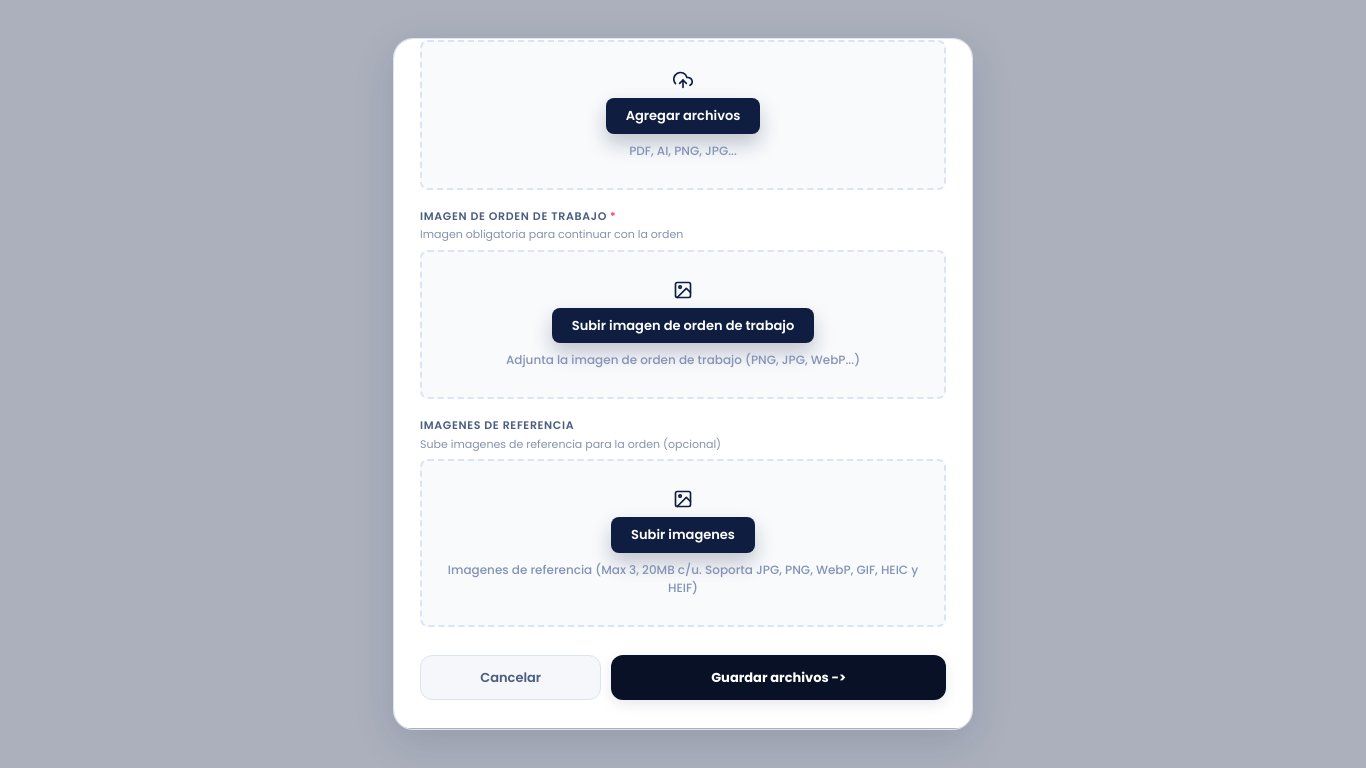
EditOrderModal seller hydration › bloquea el guardado de Semi-Admin sin una imagen de orden de trabajo
(page scrolled)
Click the button "Guardar archivos ->": (779, 678) x1=611 y1=655 x2=946 y2=700
(page scrolled)
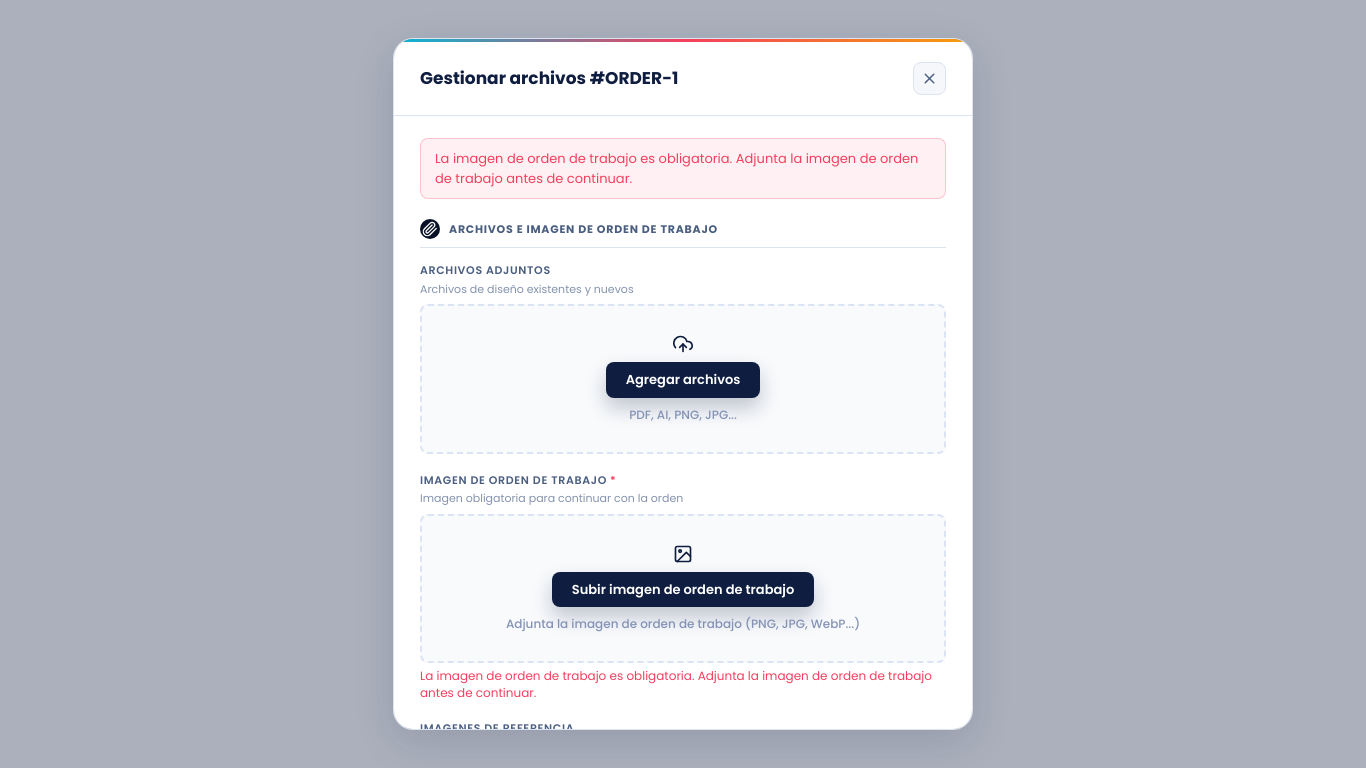
Expected: the 1st text "La imagen de orden de trabajo es obligatoria. Adjunta la imagen de orden de trabajo antes de continuar." is shown, x1=435 y1=149 x2=918 y2=188
